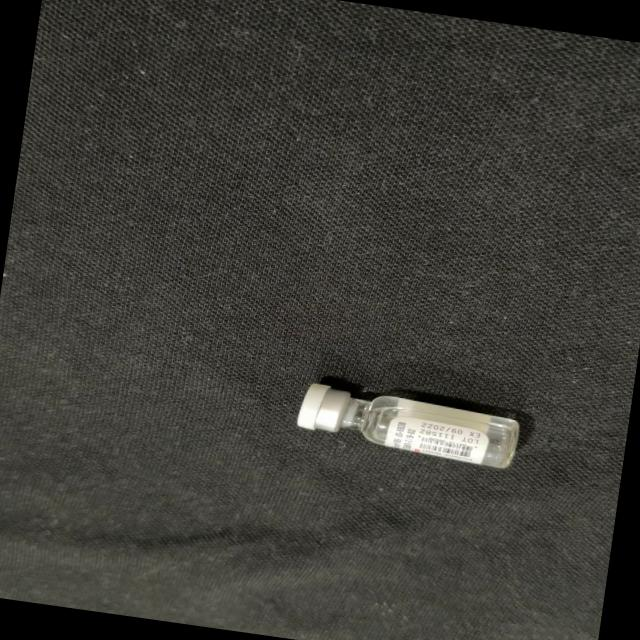fentanl_citrat: (299, 382, 518, 468)
